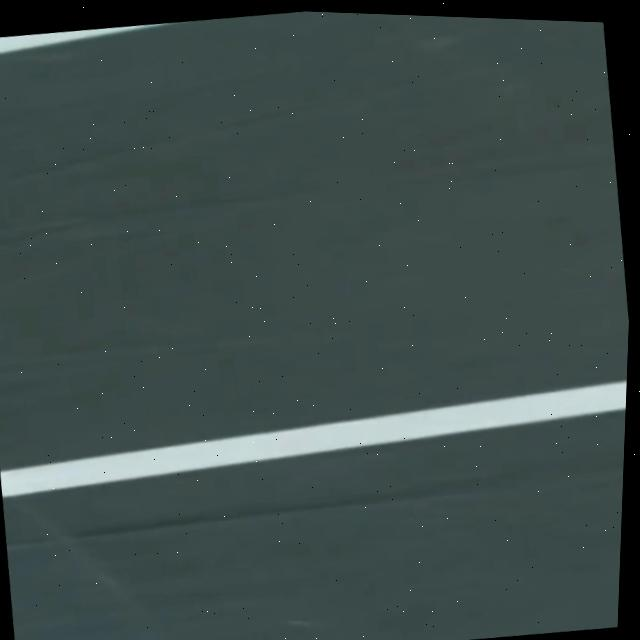center: (0, 379, 627, 497)
left: (0, 21, 184, 53)
